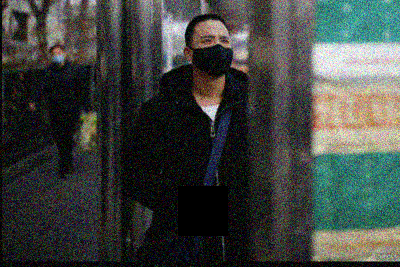with_mask: (193, 31, 234, 77), (52, 50, 66, 65)
